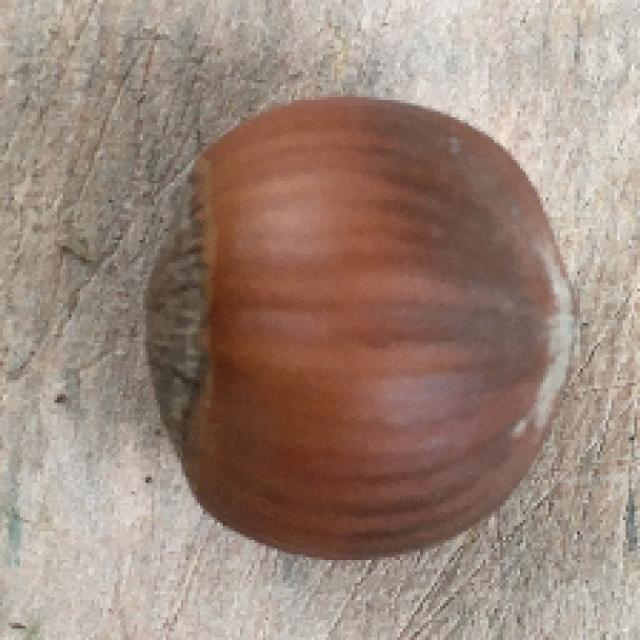damagedHazelnut: (142, 92, 578, 561)
